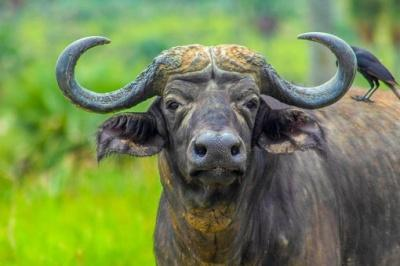buffalo: (55, 33, 400, 266)
